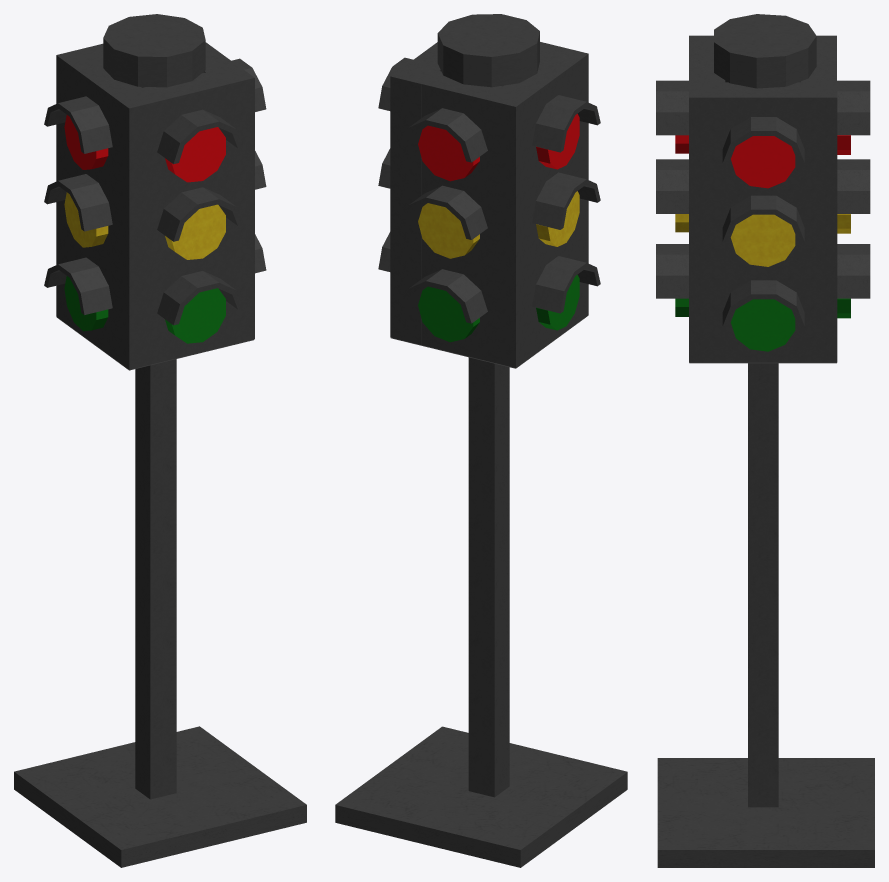
Rendered from city_traffic_light.glb.
3 views of the same model, side by side, from view 1: azimuth 30°, elevation 25°; view 2: azimuth 150°, elevation 25°; view 3: azimuth 270°, elevation 25° (orthographic).
Parts seen in each view (by area): view 1: Cylinder.018_16, Cylinder.041_11, Cylinder.016_18, Cylinder.015_19, Cylinder.052_0, Cylinder.040_12, Cylinder.037_15, Cylinder.039_13, Cylinder.038_14, Cylinder.050_2, Cylinder.051_1, Cylinder.013_21 (+3 smaller); view 2: Cylinder.018_16, Cylinder.046_6, Cylinder.016_18, Cylinder.051_1, Cylinder.015_19, Cylinder.052_0, Cylinder.045_7, Cylinder.043_9, Cylinder.044_8, Cylinder.042_10, Cylinder.050_2, Cylinder.013_21 (+3 smaller); view 3: Cylinder.018_16, Cylinder.041_11, Cylinder.046_6, Cylinder.051_1, Cylinder.052_0, Cylinder.045_7, Cylinder.040_12, Cylinder.050_2, Cylinder.048_4, Cylinder.047_5, Cylinder.049_3, Cylinder.016_18.
Boxes of the visible parts, x1,y1,x2,y2 form: Cylinder.018_16: (14,359,306,867); Cylinder.041_11: (112,65,254,369); Cylinder.016_18: (56,48,253,370); Cylinder.015_19: (44,96,112,314); Cylinder.052_0: (103,14,205,87); Cylinder.040_12: (157,109,243,325); Cylinder.037_15: (165,288,225,343); Cylinder.039_13: (165,127,225,182); Cylinder.038_14: (165,204,225,259); Cylinder.050_2: (231,58,266,273); Cylinder.051_1: (204,42,253,84); Cylinder.013_21: (64,192,108,247); Cylinder.018_16: (335,357,627,867); Cylinder.046_6: (390,63,532,367); Cylinder.016_18: (391,49,588,368); Cylinder.051_1: (390,42,440,344); Cylinder.015_19: (532,95,600,313); Cylinder.052_0: (437,14,539,87); Cylinder.045_7: (402,108,487,323); Cylinder.043_9: (418,203,479,258); Cylinder.044_8: (418,125,479,181); Cylinder.042_10: (418,286,479,342); Cylinder.050_2: (378,57,412,271); Cylinder.013_21: (536,191,579,246); Cylinder.018_16: (657,363,874,867); Cylinder.041_11: (689,35,725,362); Cylinder.046_6: (801,35,836,362); Cylinder.051_1: (690,82,837,362); Cylinder.052_0: (714,14,816,88); Cylinder.045_7: (837,80,870,298); Cylinder.040_12: (656,80,688,298); Cylinder.050_2: (722,117,804,326); Cylinder.048_4: (730,214,795,266); Cylinder.047_5: (730,299,795,351); Cylinder.049_3: (731,136,795,188); Cylinder.016_18: (689,35,836,363).
Size of the model in its own units: 6.83 by 26.44 by 6.7.
Materials: 5 (4 with a texture image).
